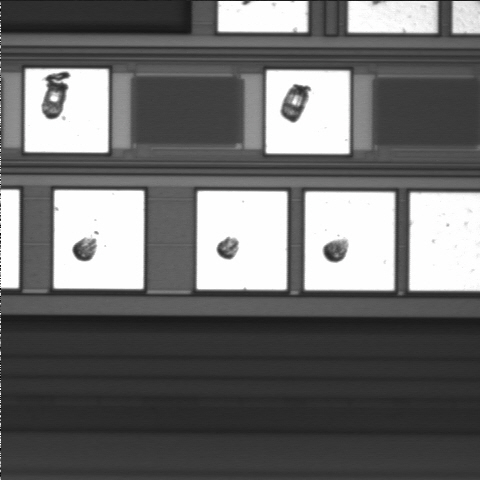pad: (54, 190, 144, 289), (197, 191, 287, 290), (305, 192, 395, 290), (266, 70, 350, 154), (25, 69, 108, 152)
